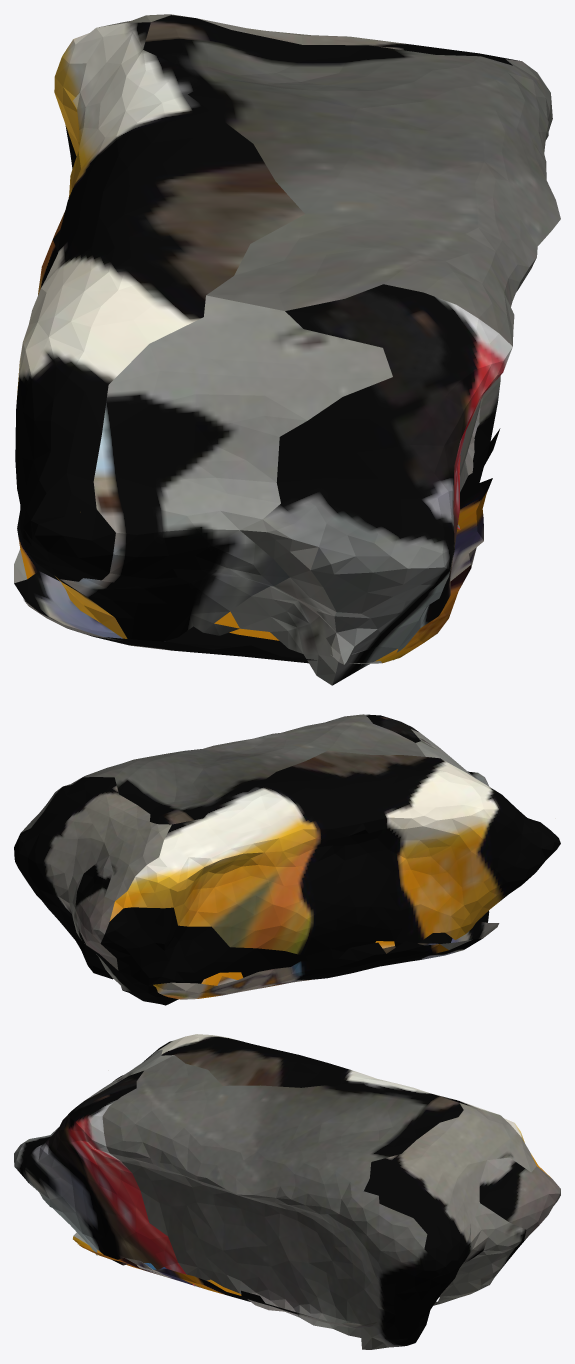
Rendered from sqm.obj.
The picture shows the model from 3 angles, top to bottom: view 1: azimuth 30°, elevation 25°; view 2: azimuth 150°, elevation 25°; view 3: azimuth 270°, elevation 25°; orthographic projection. The views are drawn at different scales.
Parts seen in each view (by area): view 1: material_0, material_0_1; view 2: material_0, material_0_1; view 3: material_0, material_0_1.
Part boxes in pixels (left/top/right/bottom): material_0: left=15, top=14, right=560, bottom=685; material_0_1: left=14, top=376, right=500, bottom=664; material_0: left=14, top=714, right=560, bottom=1005; material_0_1: left=153, top=911, right=499, bottom=999; material_0: left=14, top=1034, right=560, bottom=1349; material_0_1: left=73, top=1232, right=376, bottom=1327.
Bounding box in the file's own units: 0.0915 × 0.0449 × 0.1084.
